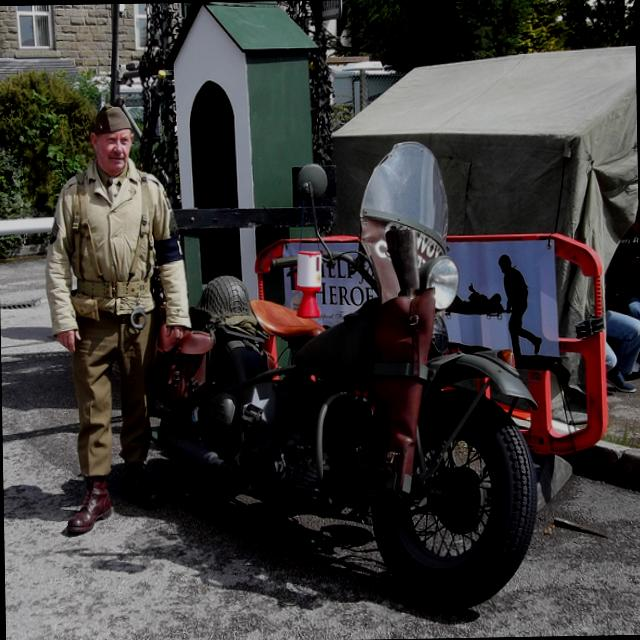Vehicle: (142, 136, 544, 619)
